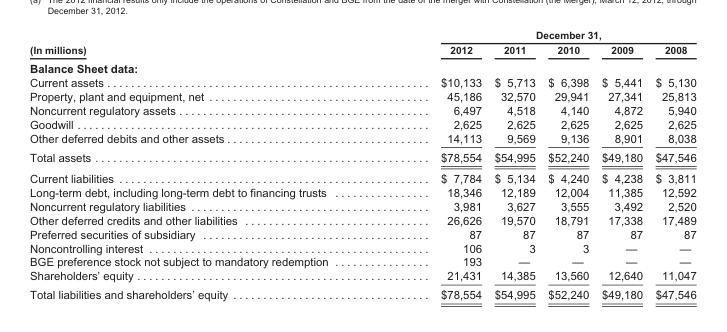table: (29, 28, 695, 300)
table column: (29, 28, 383, 300), (383, 28, 487, 300), (487, 28, 541, 300), (594, 28, 648, 300), (541, 28, 594, 300), (648, 28, 695, 300)
table column header: (29, 28, 695, 58)
table projected row header: (29, 58, 695, 75)
table row: (29, 147, 695, 167), (29, 58, 695, 75), (29, 130, 695, 147), (29, 167, 695, 184), (29, 42, 695, 58), (29, 268, 695, 284), (29, 284, 695, 300), (29, 28, 695, 42), (29, 75, 695, 89), (29, 102, 695, 116), (29, 116, 695, 130), (29, 184, 695, 198), (29, 198, 695, 212), (29, 212, 695, 226), (29, 226, 695, 240), (29, 240, 695, 254), (29, 254, 695, 268), (29, 89, 695, 102)
table spanning cell: (29, 28, 383, 58), (383, 28, 695, 42)
